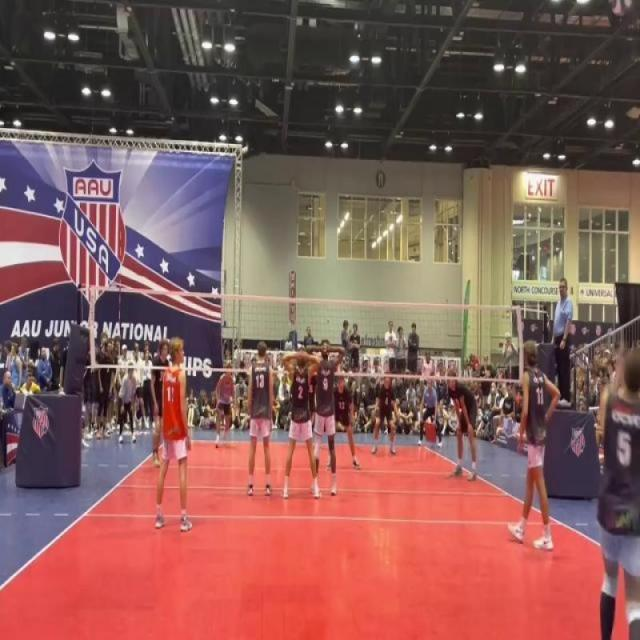volleyball: (610, 0, 630, 17)
